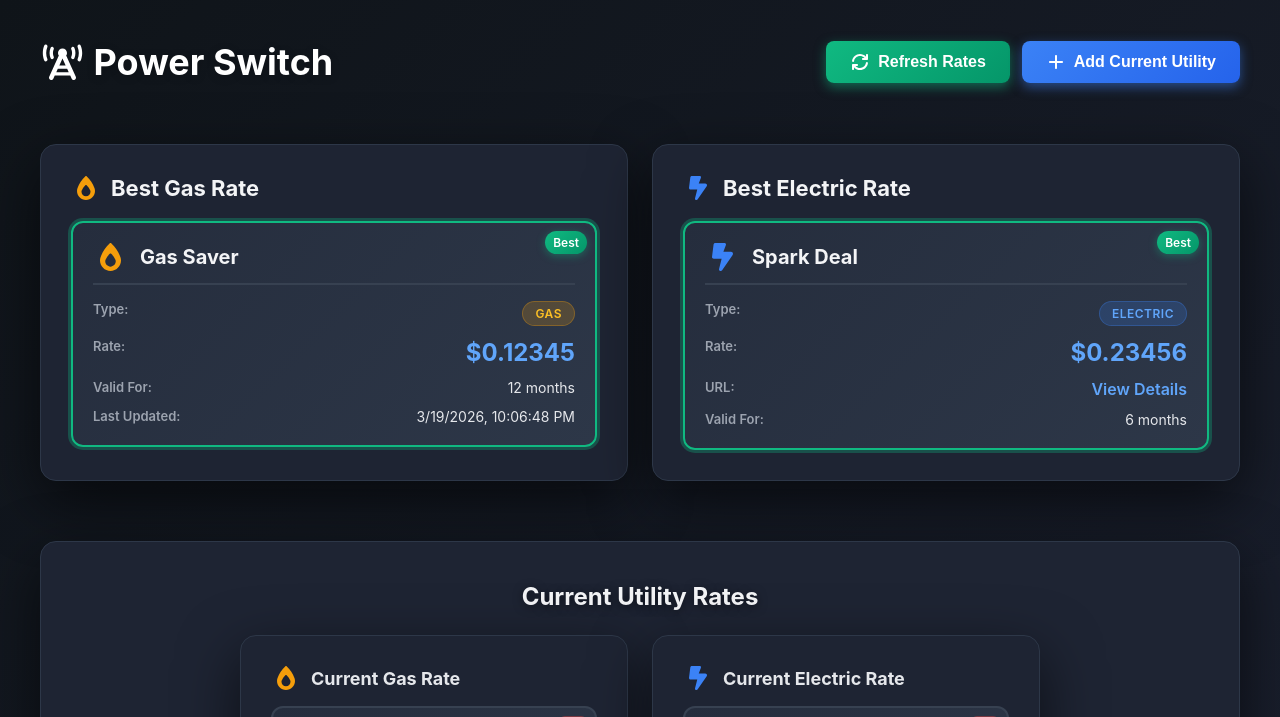
it: App › handleRefreshRates › successfully refreshes rates and updates all data
Check: the heading "Gas Saver" is shown, box 140,245 -> 239,269
Click the button "Refresh Rates".
click(918, 62)  # box 826,41 -> 1010,83
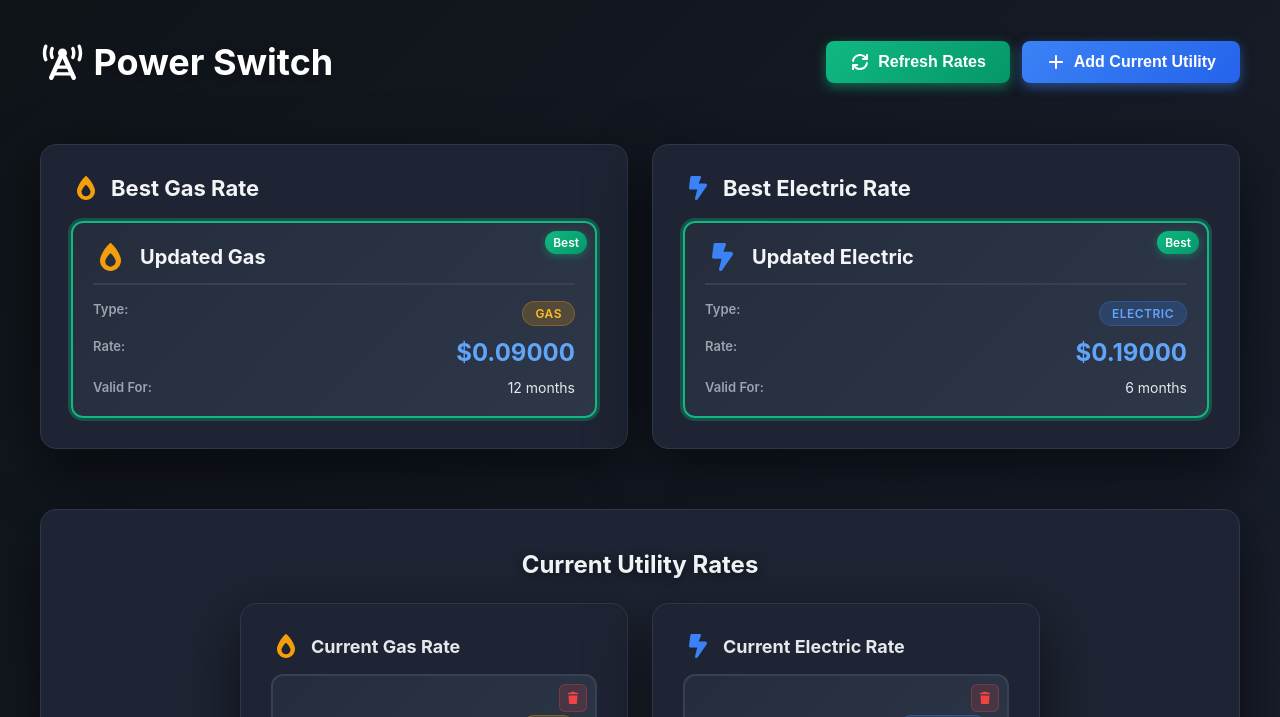
Check: the heading "Updated Gas" is shown, box 140,245 -> 266,269
Check: the heading "Updated Electric" is shown, box 752,245 -> 914,269
